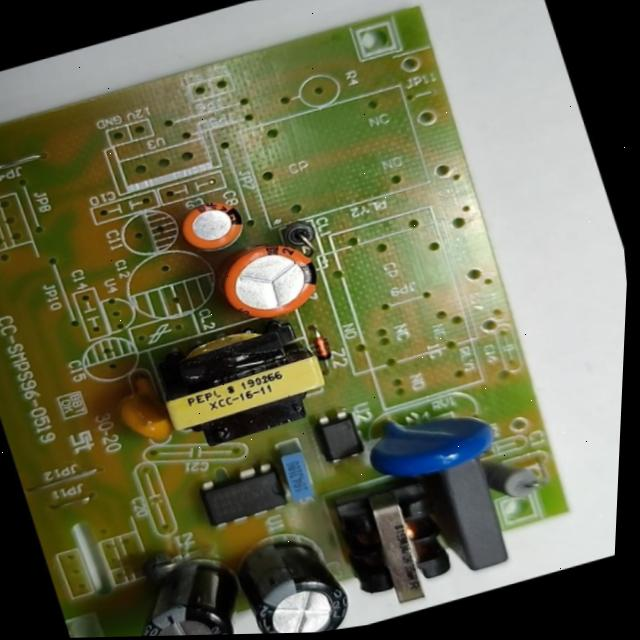Cap1: (204, 224, 337, 333)
Cap2: (167, 188, 255, 260)
Cap3: (224, 517, 367, 634)
Cap4: (109, 542, 265, 637)
MOSFET: (186, 451, 299, 537)
Mov: (355, 387, 508, 491)
Resistor: (480, 446, 550, 508)
Transformer: (137, 303, 344, 462), (314, 462, 474, 622)
